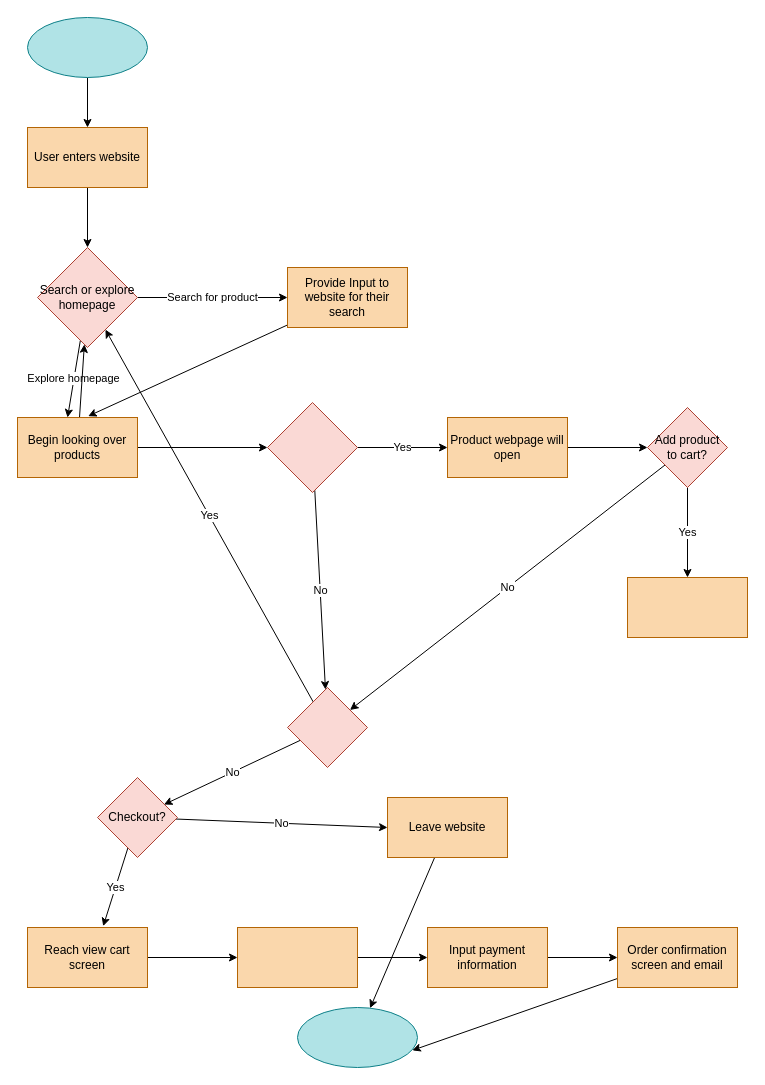
Image size: 765x1085. Some labels were removed from this diagram. The shapes that lost their labels are listed below. From the top down, each one's centre as x and y in pixels, then its label:
the point at 87,47: Start
the point at 312,447: View a speicifc Product?
the point at 687,607: Added to cart confirmation
the point at 327,727: Continue Shopping?
the point at 297,957: View payment screen
the point at 357,1037: End
